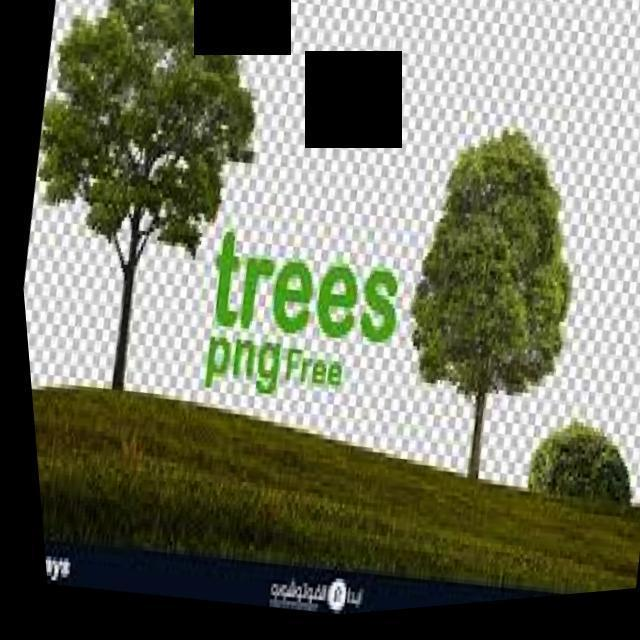tree: (0, 0, 300, 418), (368, 125, 606, 502)
